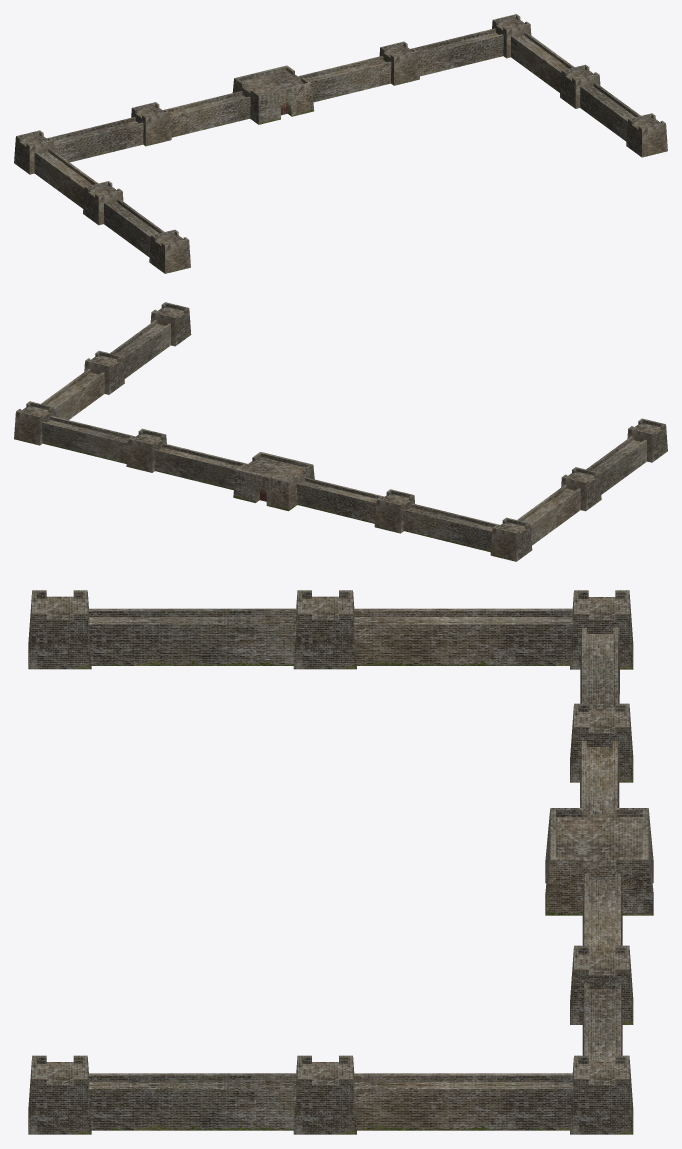
File: wall001.FBX
3 views of the same model, one above another, from view 1: azimuth 30°, elevation 25°; view 2: azimuth 150°, elevation 25°; view 3: azimuth 270°, elevation 25° (orthographic). The views are drawn at different scales.
Visible parts, largest first — view 1: wall001; view 2: wall001; view 3: wall001.
Boxes of the visible parts, x1=… form: wall001: x1=14, y1=14, x2=667, y2=273; wall001: x1=14, y1=302, x2=667, y2=561; wall001: x1=28, y1=590, x2=653, y2=1134.
Bounding box in the file's own units: 1431 × 74.61 × 771.
